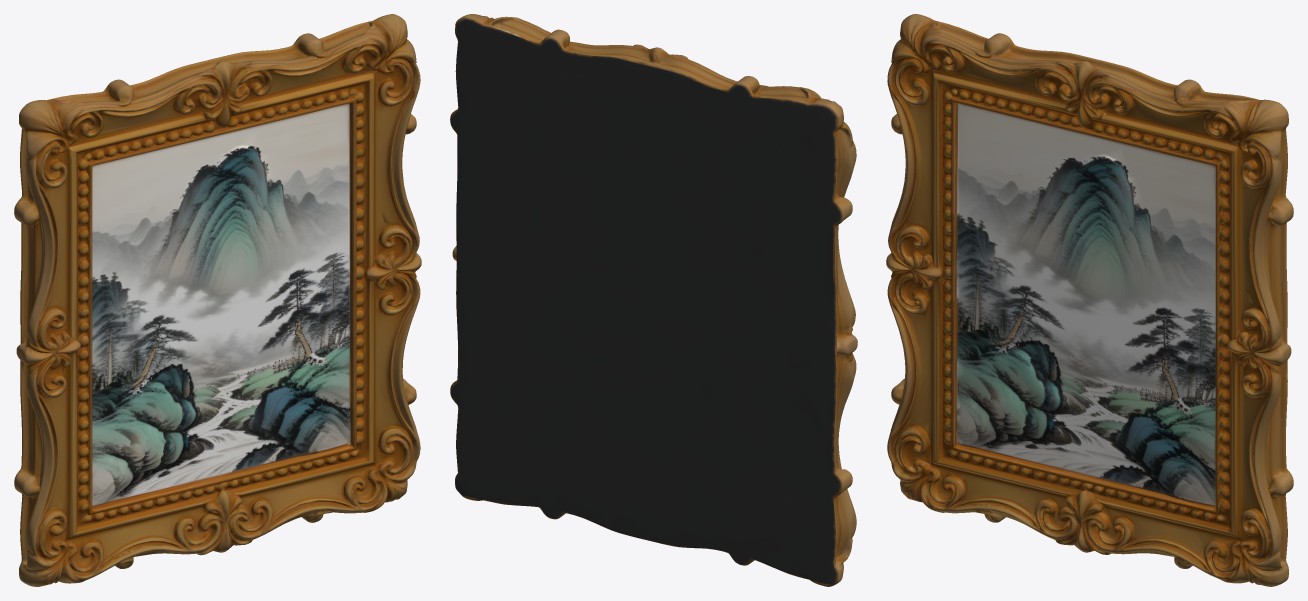
Rendered from rahmen.glb.
The picture shows the model from 3 angles, left to right: view 1: azimuth 30°, elevation 25°; view 2: azimuth 150°, elevation 25°; view 3: azimuth 330°, elevation 25°; orthographic projection.
Visible parts, largest first — view 1: node_0; view 2: node_0; view 3: node_0.
Part boxes in pixels (x1,y1,x2,y2): node_0: (14,14,421,586); node_0: (450,14,857,586); node_0: (886,14,1293,586).
Size of the model in its own units: 0.8058 by 0.9528 by 0.0678.
1 material, 1 textured.
